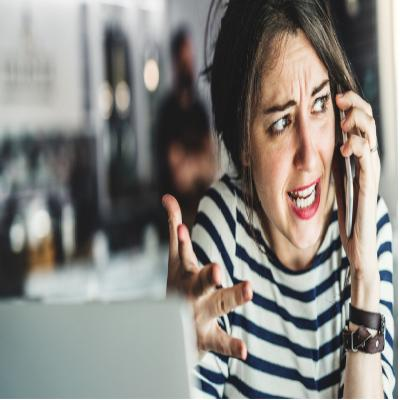angry: (253, 38, 336, 242)
